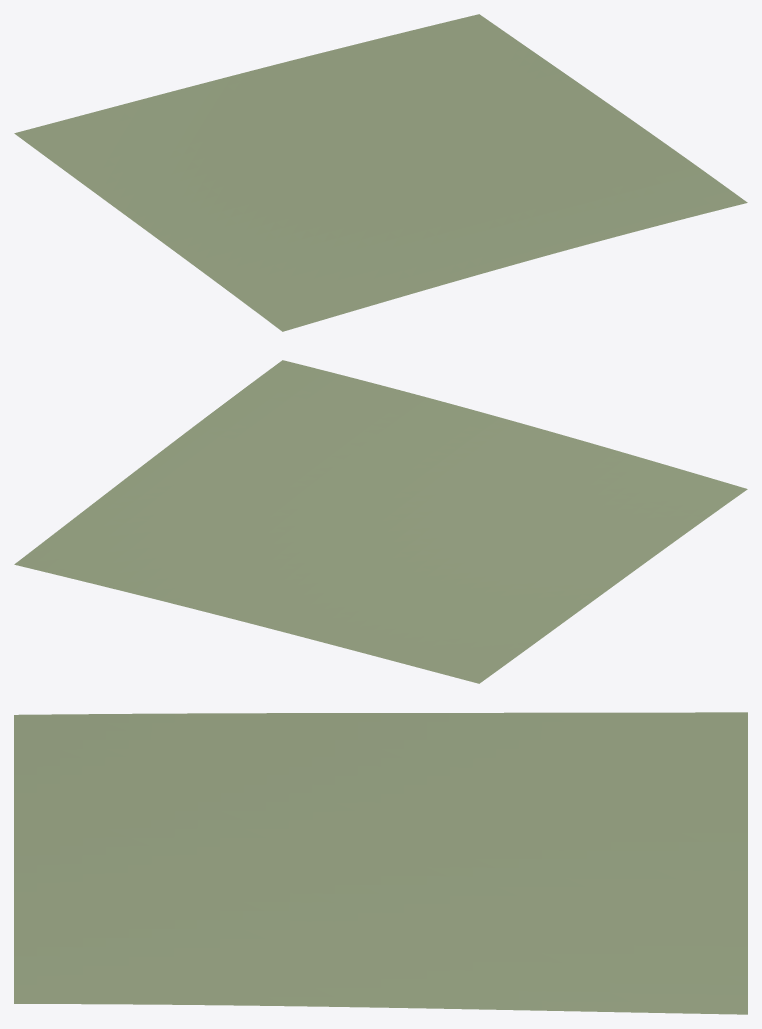
Rendered from expanse-28-14.glb.
The picture shows the model from 3 angles, top to bottom: view 1: azimuth 30°, elevation 25°; view 2: azimuth 150°, elevation 25°; view 3: azimuth 270°, elevation 25°; orthographic projection. The views are drawn at different scales.
Parts seen in each view (by area): view 1: expanse-28-14; view 2: expanse-28-14; view 3: expanse-28-14.
Boxes of the visible parts, box(x1,y1,x2,y2) form: expanse-28-14: box(14, 14, 747, 331); expanse-28-14: box(14, 360, 747, 683); expanse-28-14: box(14, 712, 747, 1014).
Bounding box in the file's own units: 256 × 8.14 × 256.
